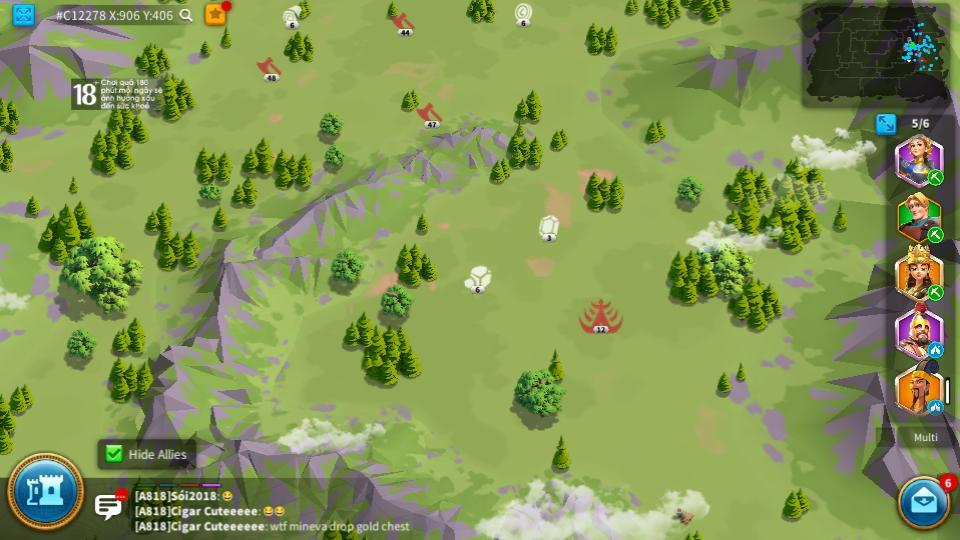gem-z-out: (539, 216, 561, 241), (833, 128, 848, 138)
march_idle: (929, 343, 942, 356), (929, 402, 943, 414)
march_marching: (928, 286, 942, 301), (928, 231, 942, 242), (929, 175, 942, 186)
